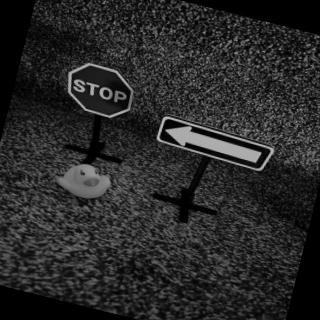duck_regular: (55, 156, 116, 205)
sign_oneway_left: (154, 114, 278, 178)
sign_stop: (60, 60, 141, 127)
